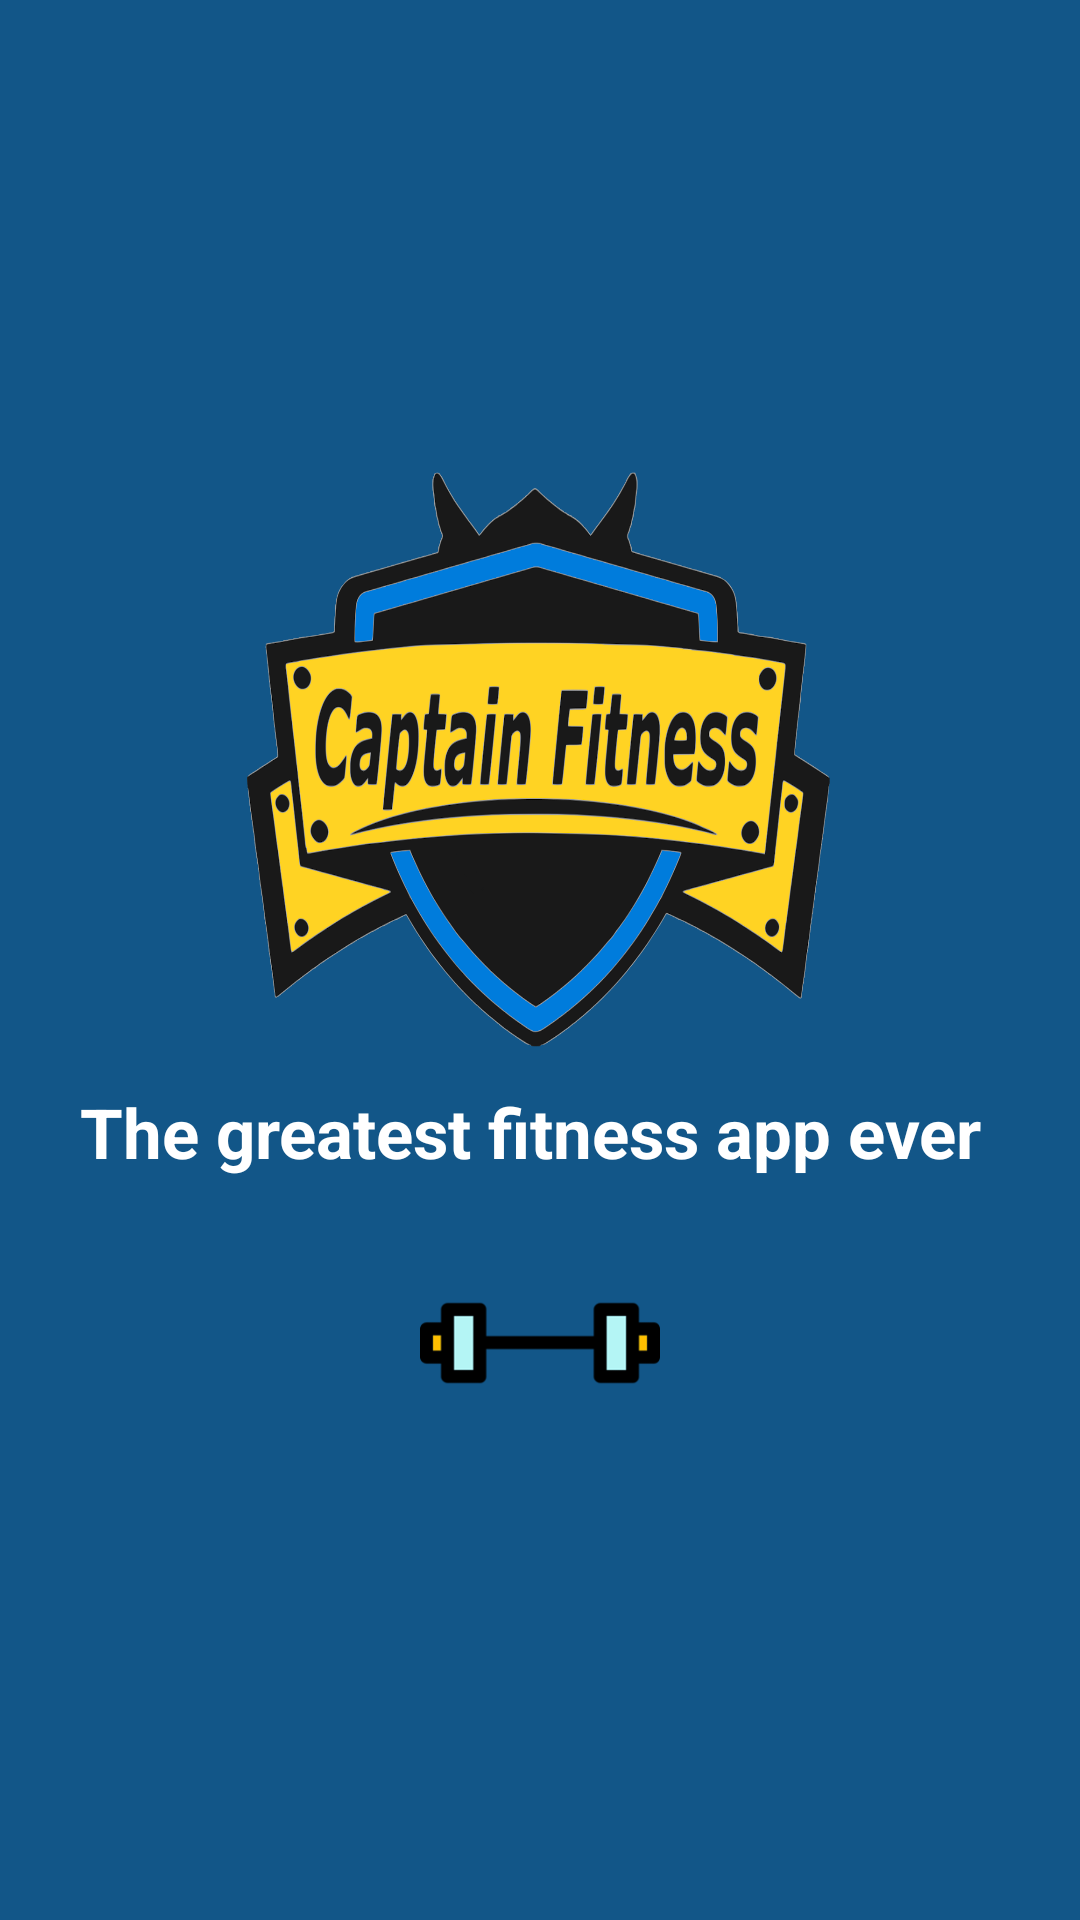

Named icons in this screenshot (1080×1920) and their bounding boxes, [x1,y1,x2,y2]:
weight: [420,1302,660,1384]
